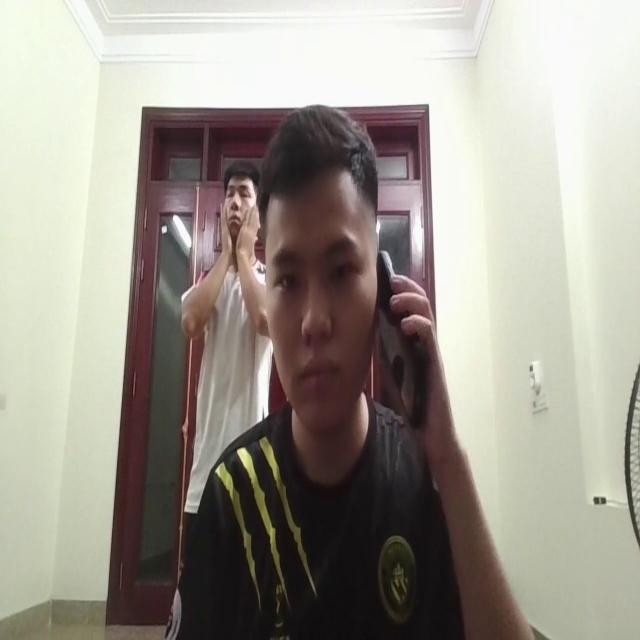extra_person: (178, 148, 272, 512)
phone: (362, 243, 431, 440)
student: (197, 92, 459, 640)
